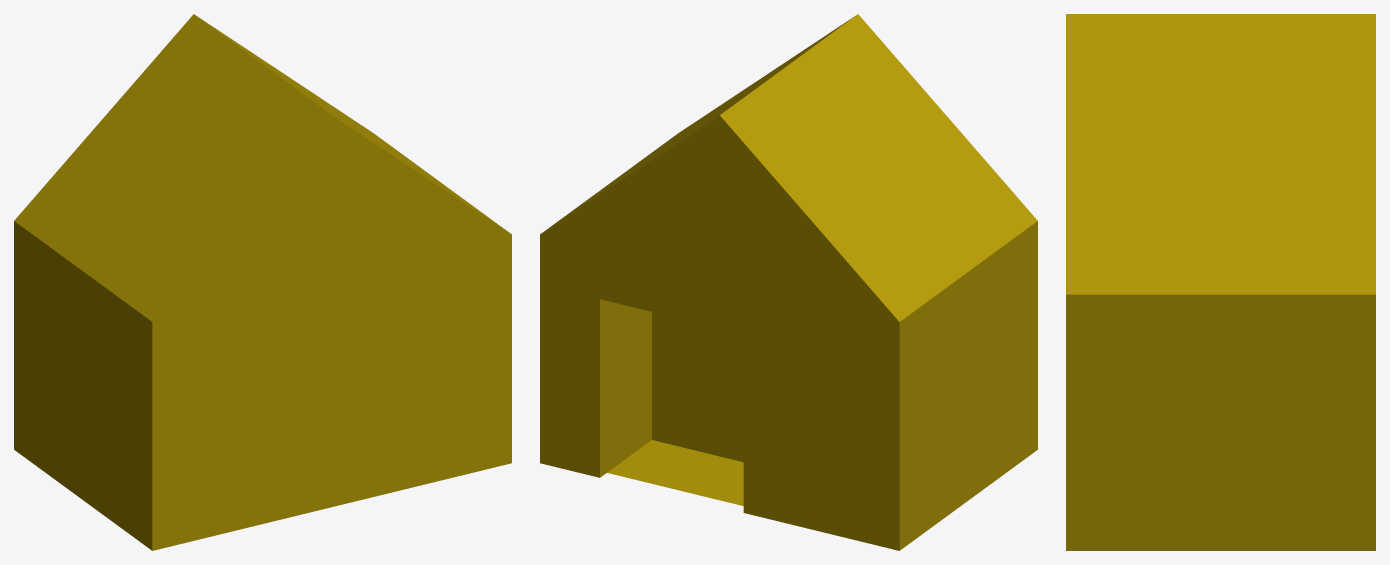
3 views of the same model, side by side, from view 1: azimuth 30°, elevation 25°; view 2: azimuth 150°, elevation 25°; view 3: azimuth 270°, elevation 25° (orthographic). The views are drawn at different scales.
Parts seen in each view (by area): view 1: 00_polygon0; view 2: 00_polygon0; view 3: 00_polygon0.
Boxes of the visible parts, left/top/right/bottom form: 00_polygon0: left=14, top=14, right=511, bottom=550; 00_polygon0: left=540, top=14, right=1037, bottom=550; 00_polygon0: left=1066, top=14, right=1375, bottom=550.
Bounding box in the file's own units: 0.2344 × 0.2441 × 0.1562.
